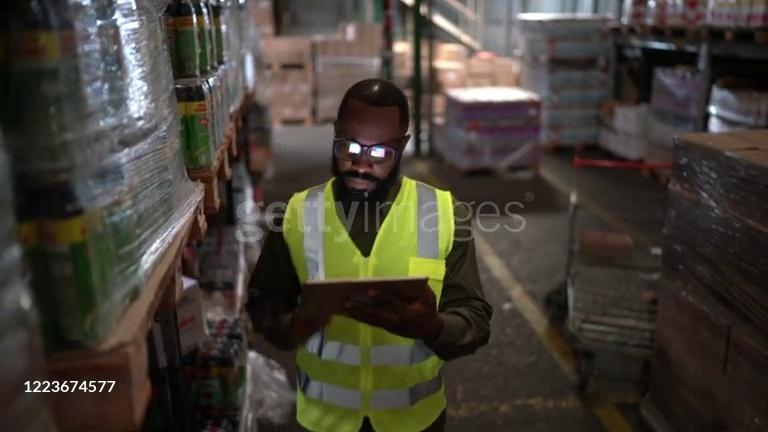person: (245, 78, 494, 432)
